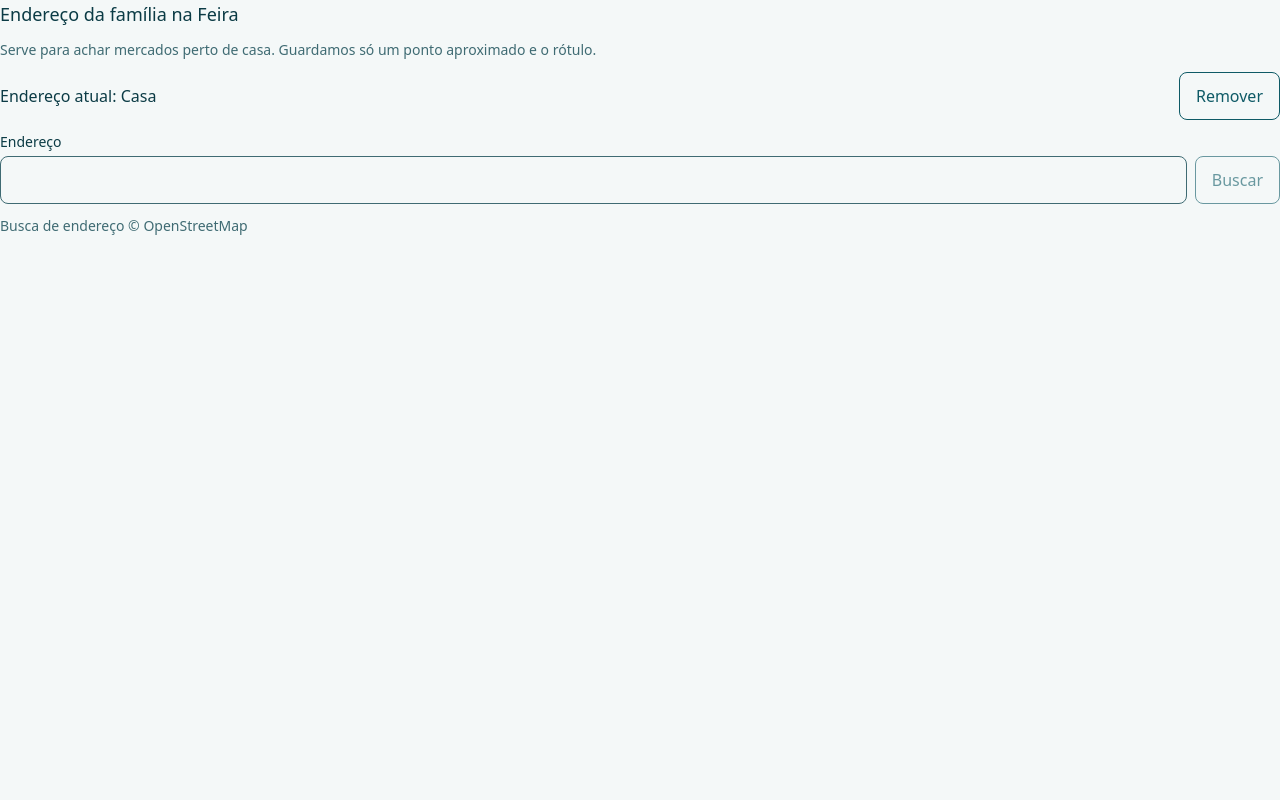
Test: MarketHomeSection › removalFailureClosesTheDialogAndShowsTheError
The image size is (1280, 800).
Click the button "Remover".
click(1229, 96)  # box [1179,72,1279,120]
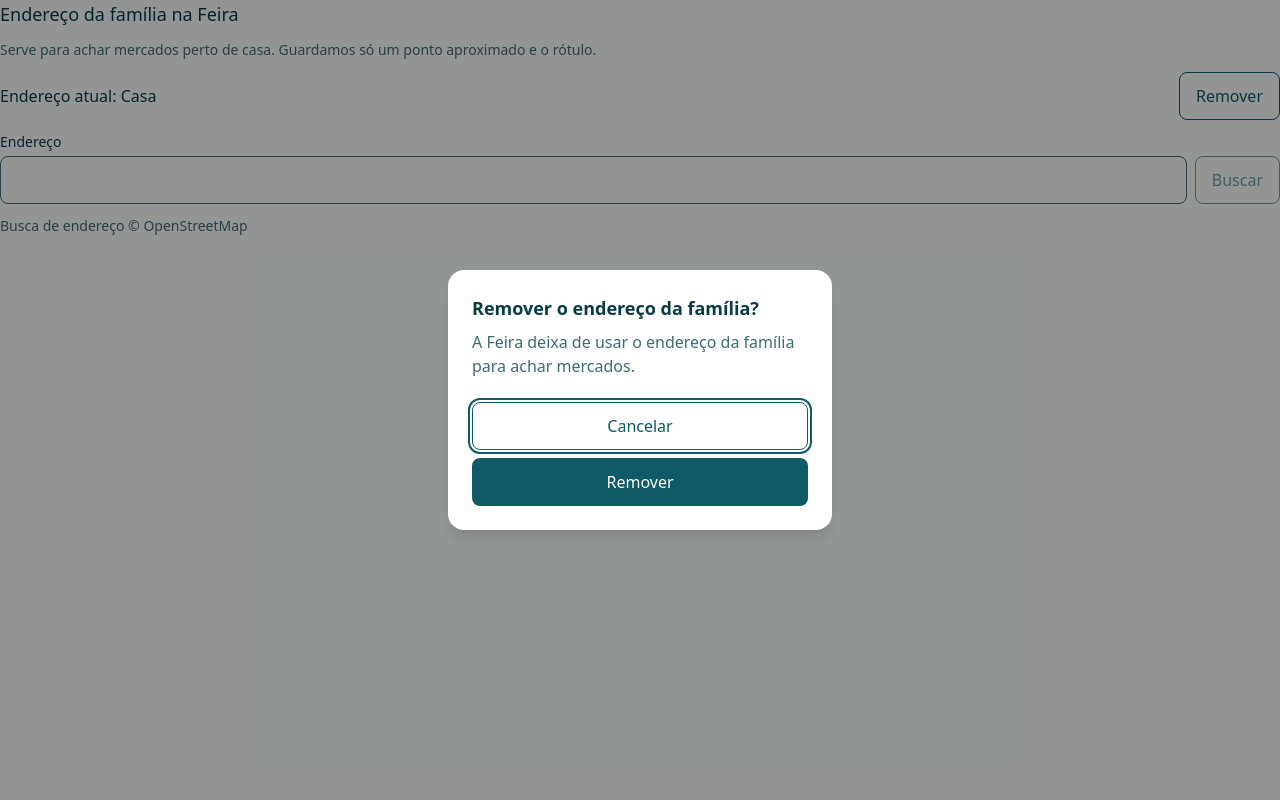
Click the button "Remover".
click(640, 482)  # box [472,458,808,506]
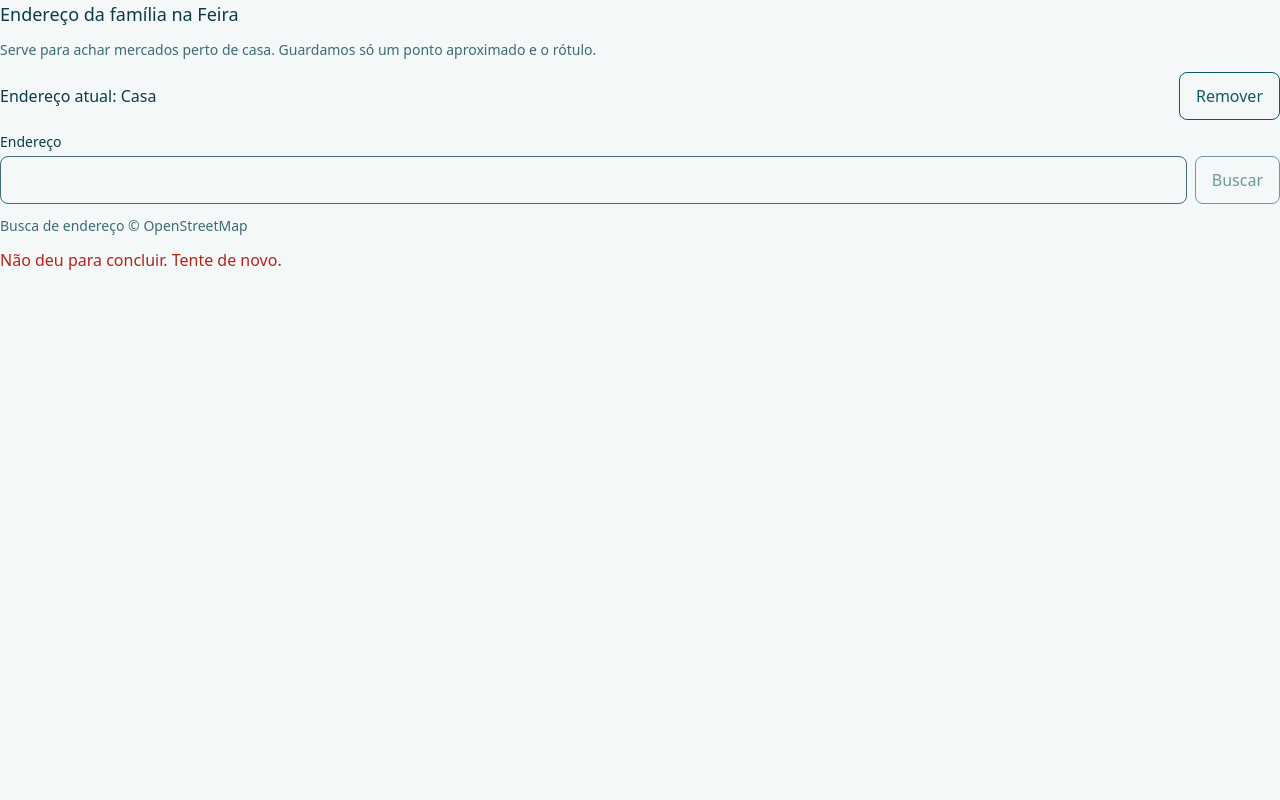
Check: the dialog is gone
Check: the message "Não deu para concluir. Tente de novo." is shown, box [0,249,282,271]
